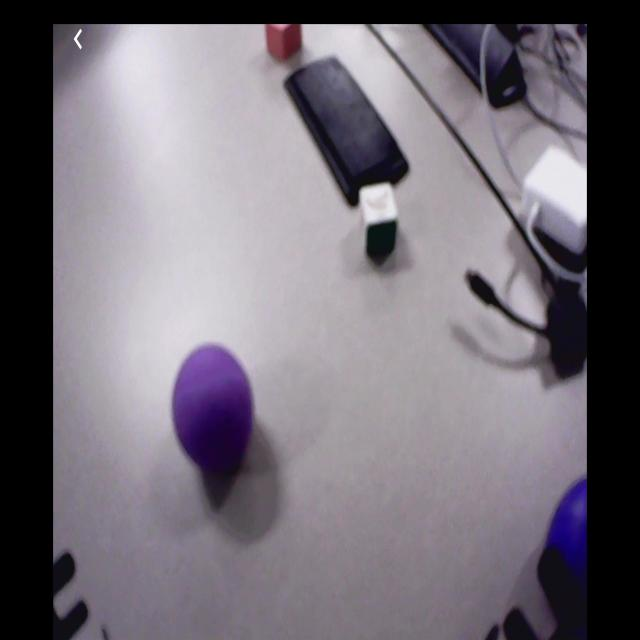ball: (175, 345, 253, 475), (549, 480, 588, 600)
